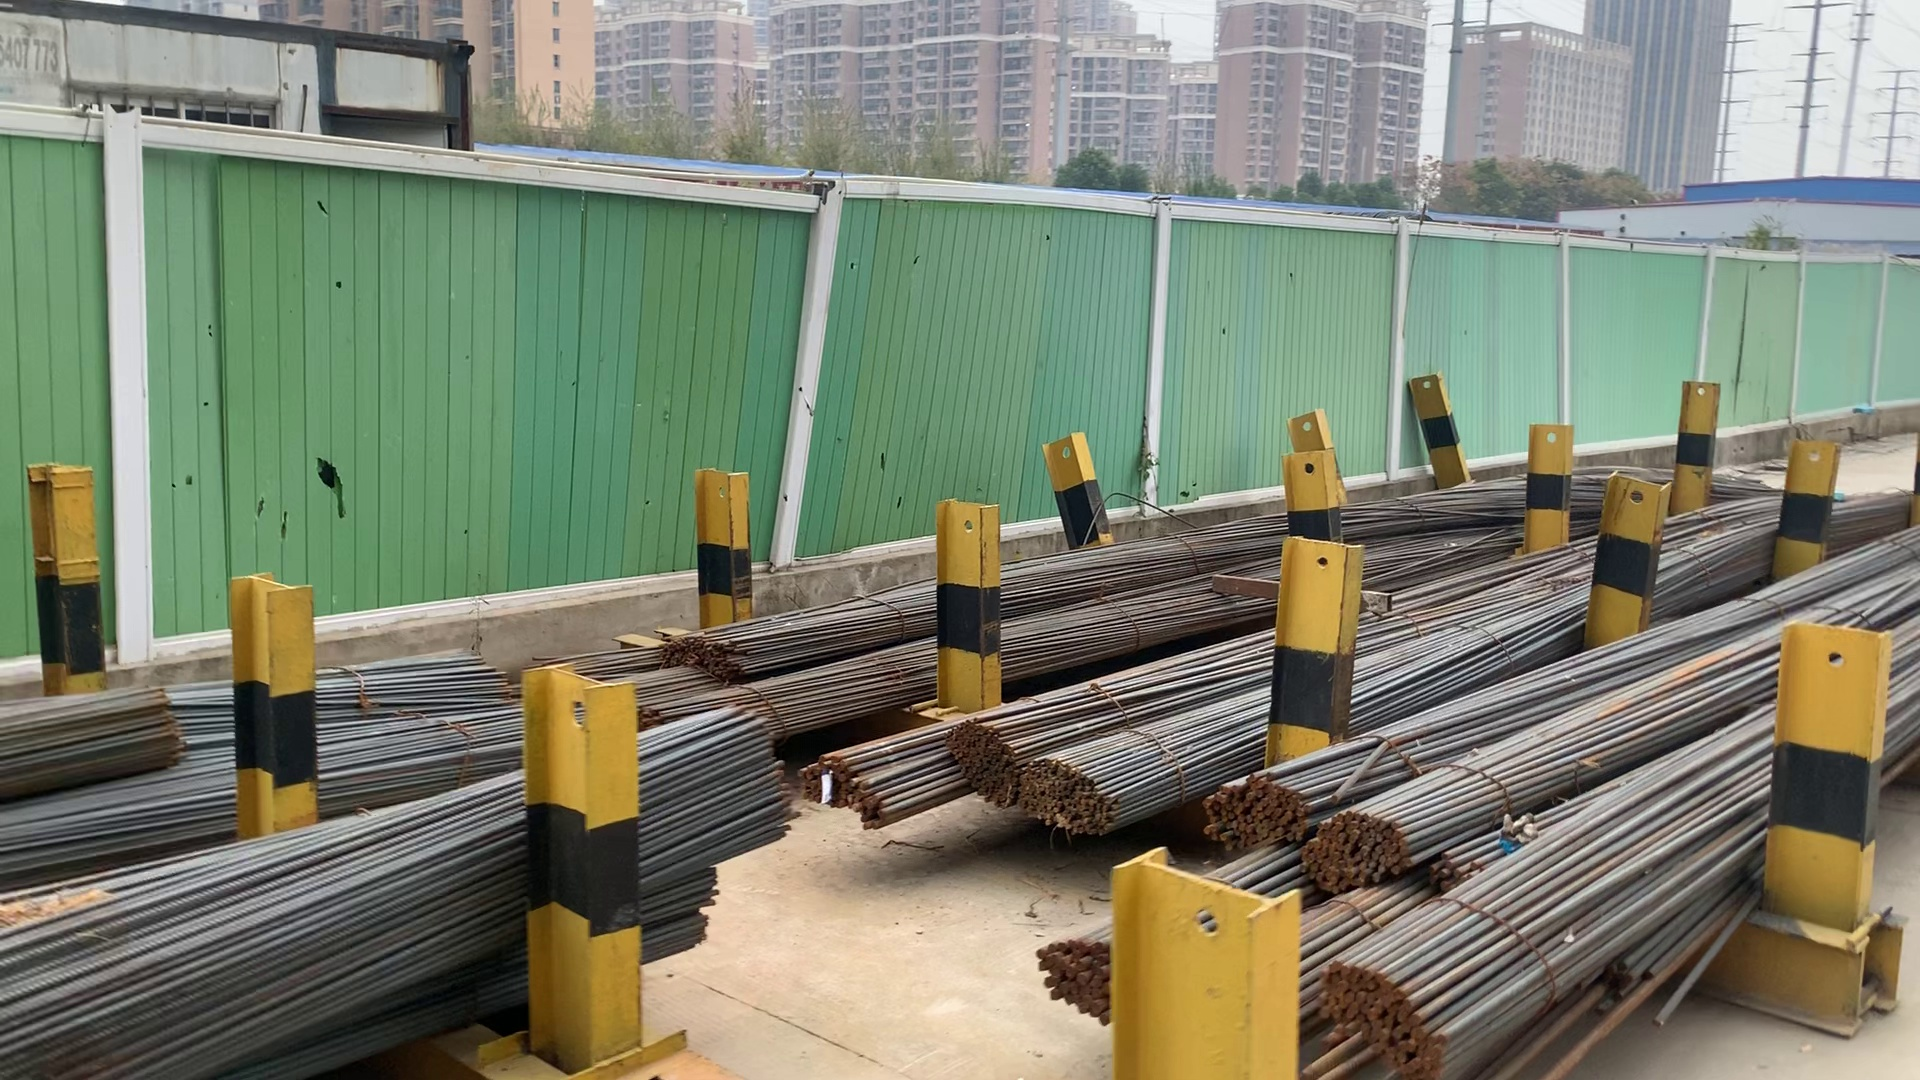rebar: (1315, 956, 1457, 1076), (1303, 814, 1414, 887), (1036, 935, 1116, 1029), (1195, 775, 1304, 843), (796, 752, 889, 829), (1015, 764, 1112, 835), (943, 727, 1011, 806), (655, 630, 746, 679)
